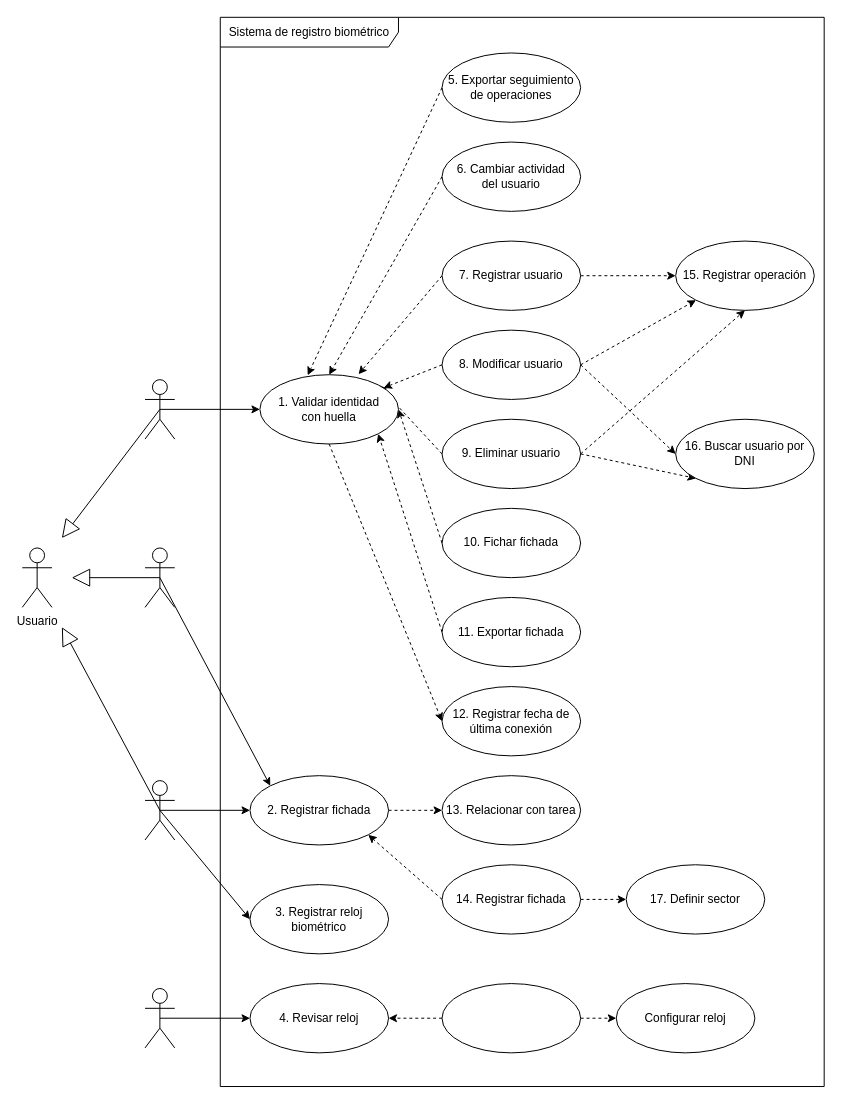
This 842x1104 diagram has some shape labels left out. The shapes that lost their labels are listed below. From the top down, each one's centre as x and y in pixels, then its label:
point (159, 409): Administrador
point (159, 577): Eventual
point (159, 810): Empleado
point (159, 1018): Técnico
point (511, 1018): Conseguir repuesto
